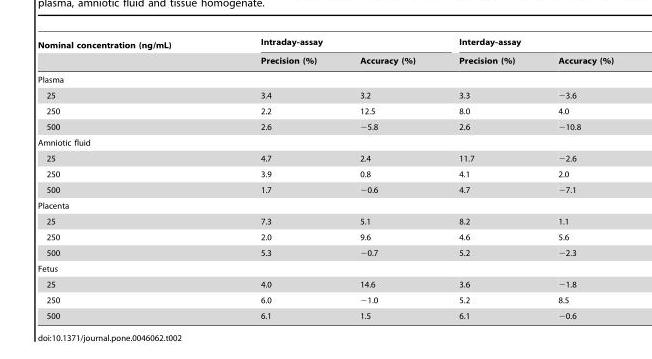table: (36, 37, 613, 320)
table column: (36, 37, 215, 320), (215, 37, 337, 320), (337, 37, 436, 320), (436, 37, 535, 320), (535, 37, 613, 320)
table column header: (36, 37, 613, 70)
table projected row header: (36, 70, 613, 87), (36, 134, 613, 150), (36, 197, 613, 213), (36, 260, 613, 276)
table row: (36, 52, 613, 70), (36, 70, 613, 87), (36, 87, 613, 103), (36, 118, 613, 134), (36, 134, 613, 150), (36, 150, 613, 166), (36, 181, 613, 197), (36, 197, 613, 213), (36, 213, 613, 229), (36, 244, 613, 260), (36, 260, 613, 276), (36, 291, 613, 307), (36, 37, 613, 52), (36, 103, 613, 118), (36, 166, 613, 181), (36, 229, 613, 244), (36, 276, 613, 291), (36, 307, 613, 320)
table spanning cell: (36, 37, 215, 70), (215, 37, 436, 52), (436, 37, 613, 52)
